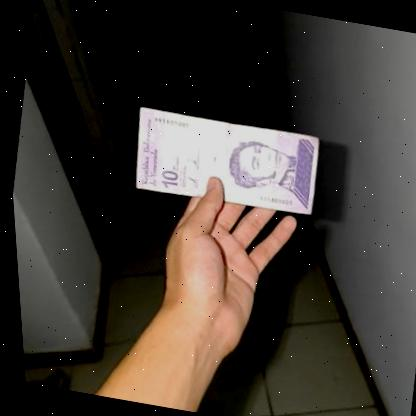ten-front-vef: (127, 106, 323, 219)
